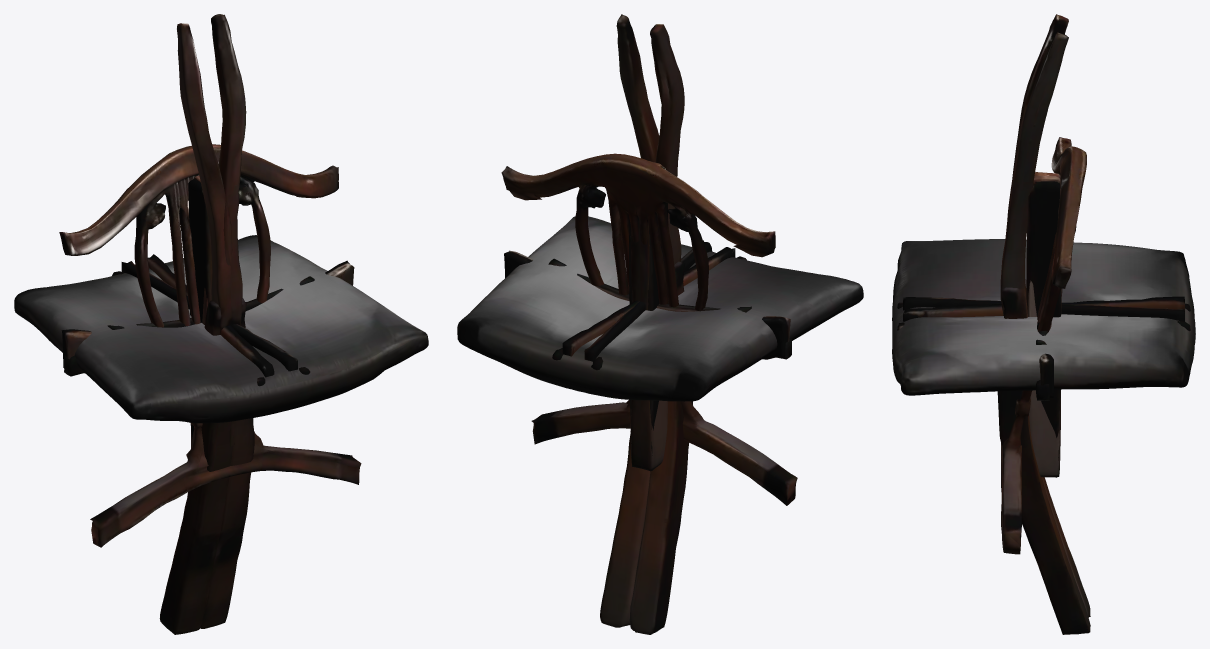
3 views of the same model, side by side, from view 1: azimuth 30°, elevation 25°; view 2: azimuth 150°, elevation 25°; view 3: azimuth 270°, elevation 25° (orthographic). The views are drawn at different scales.
Visible parts, largest first — view 1: root.0, root.1, root.2, root.3, root.5, root.8, root.9, root.6, root.7; view 2: root.0, root.1, root.2, root.3, root.4, root.5, root.9, root.8, root.6, root.7; view 3: root.0, root.3, root.1, root.2, root.4, root.5, root.9, root.8, root.6.
Boxes of the visible parts, x1=… form: root.0: x1=14, y1=235, x2=428, y2=423; root.1: x1=59, y1=144, x2=361, y2=547; root.2: x1=159, y1=14, x2=246, y2=634; root.3: x1=177, y1=23, x2=254, y2=628; root.5: x1=188, y1=178, x2=212, y2=438; root.8: x1=121, y1=261, x2=297, y2=371; root.9: x1=147, y1=254, x2=274, y2=377; root.6: x1=61, y1=260, x2=354, y2=373; root.7: x1=107, y1=276, x2=314, y2=329; root.0: x1=457, y1=216, x2=863, y2=401; root.1: x1=501, y1=153, x2=797, y2=505; root.2: x1=616, y1=14, x2=692, y2=634; root.3: x1=600, y1=24, x2=684, y2=627; root.4: x1=629, y1=162, x2=667, y2=471; root.5: x1=630, y1=161, x2=667, y2=470; root.9: x1=562, y1=247, x2=735, y2=356; root.8: x1=584, y1=240, x2=712, y2=361; root.6: x1=504, y1=250, x2=790, y2=359; root.7: x1=548, y1=258, x2=751, y2=312; root.0: x1=892, y1=239, x2=1195, y2=395; root.3: x1=997, y1=14, x2=1090, y2=634; root.1: x1=1001, y1=137, x2=1086, y2=554; root.2: x1=1000, y1=32, x2=1090, y2=617; root.4: x1=1026, y1=172, x2=1060, y2=477; root.5: x1=1026, y1=175, x2=1062, y2=476; root.9: x1=903, y1=297, x2=1184, y2=321; root.8: x1=903, y1=296, x2=1184, y2=321; root.6: x1=1039, y1=353, x2=1053, y2=397.
Bounding box in the file's own units: 14812 × 29230 × 13416.
1 material, 1 textured.
